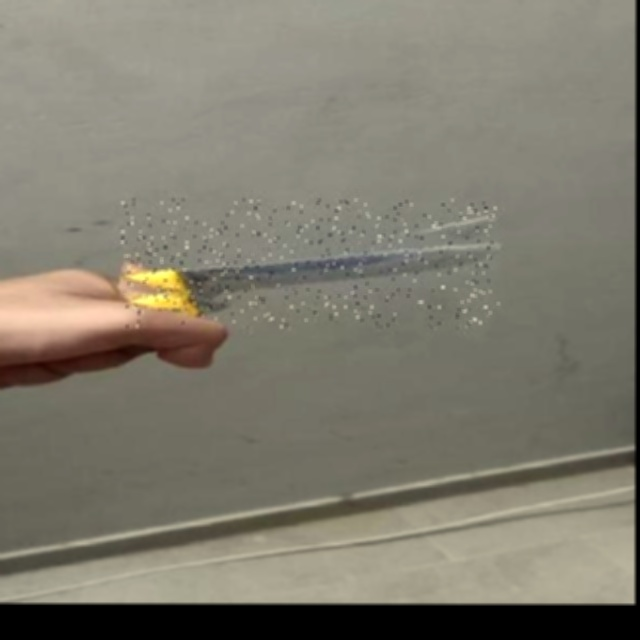Sharp-Object: (121, 198, 500, 328)
